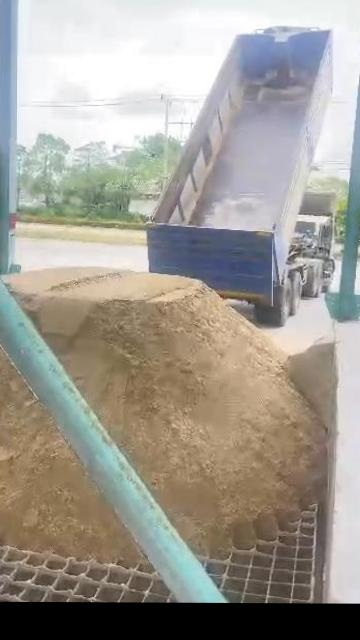sand: (10, 269, 325, 551), (0, 353, 136, 561), (285, 337, 337, 431)
